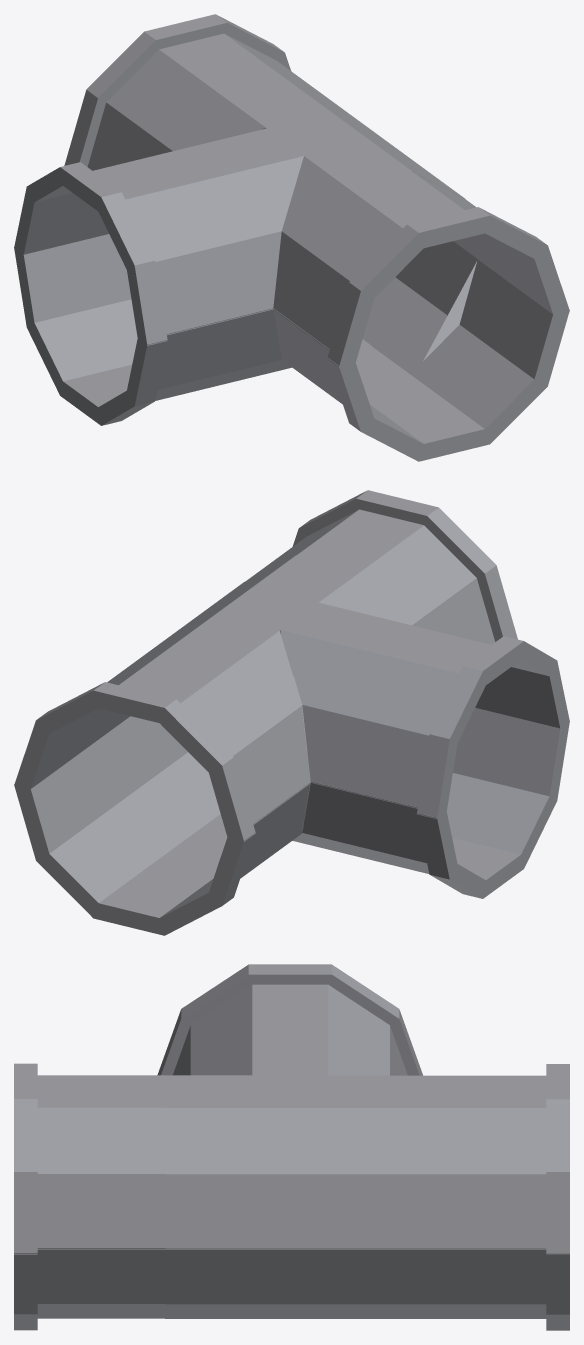
Rendered from TuberiaGrande_BifuraciónSeparada.fbx.
3 renders of one model, top to bottom at view 1: azimuth 30°, elevation 25°; view 2: azimuth 150°, elevation 25°; view 3: azimuth 270°, elevation 25°, orthographic.
Parts seen in each view (by area): view 1: TuberiaGrande_Conexion1, TuberiaGrande_Conexion2; view 2: TuberiaGrande_Conexion1, TuberiaGrande_Conexion2; view 3: TuberiaGrande_Conexion1, TuberiaGrande_Conexion2.
Boxes of the visible parts, x1,y1,x2,y2 form: TuberiaGrande_Conexion1: (14, 14, 569, 367); TuberiaGrande_Conexion2: (14, 165, 569, 461); TuberiaGrande_Conexion1: (14, 490, 569, 841); TuberiaGrande_Conexion2: (14, 634, 569, 935); TuberiaGrande_Conexion1: (14, 964, 569, 1254); TuberiaGrande_Conexion2: (14, 1248, 569, 1330).
Size of the model in its own units: 9.32 by 5.77 by 12.57.
